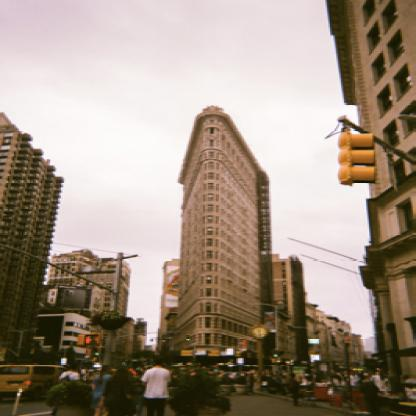trafficlight: (336, 130, 377, 185)
